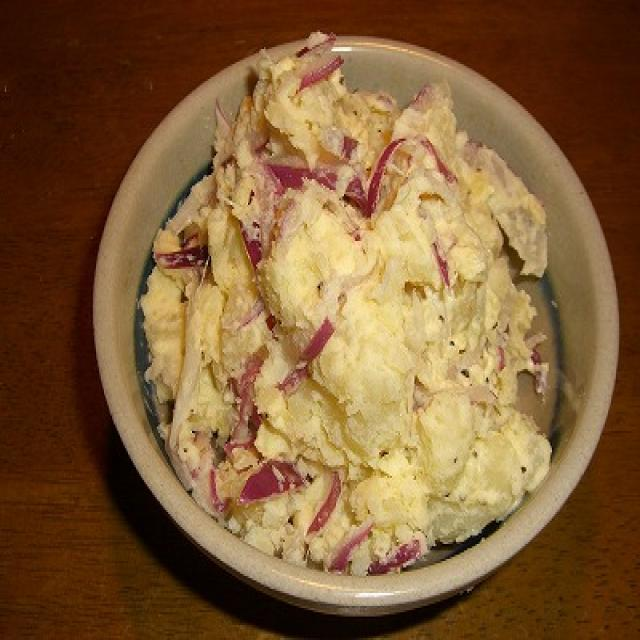蔬菜料理: (93, 0, 621, 614)
